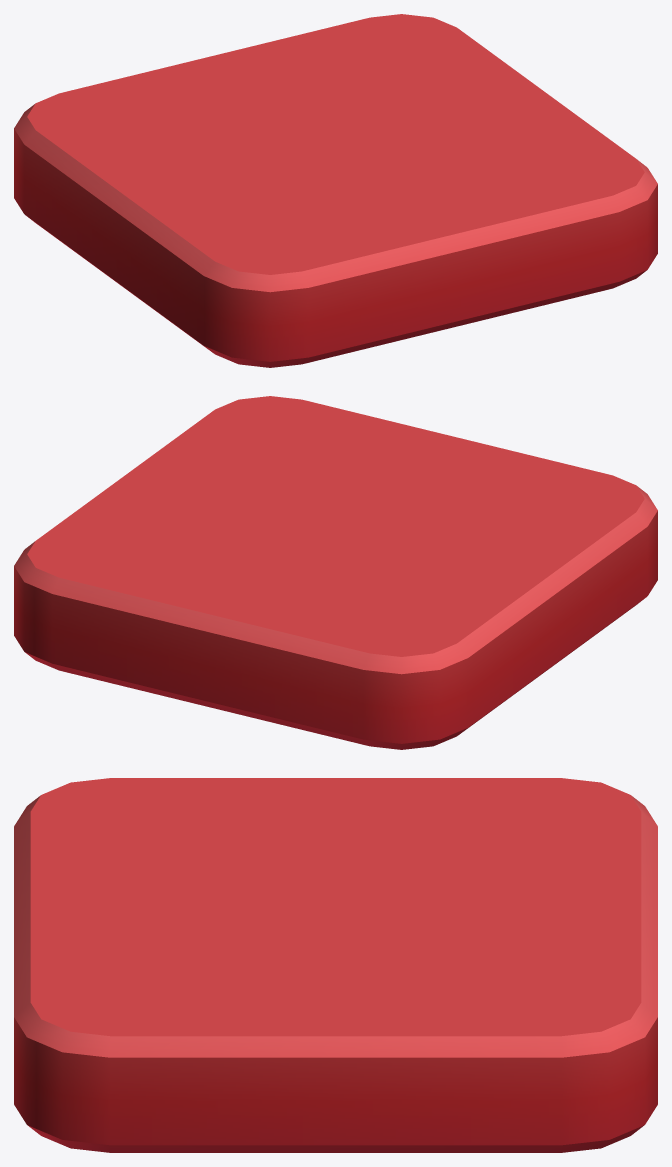
File: tile-red.glb
The picture shows the model from 3 angles, top to bottom: view 1: azimuth 30°, elevation 25°; view 2: azimuth 150°, elevation 25°; view 3: azimuth 270°, elevation 25°; orthographic projection. The views are drawn at different scales.
Visible parts, largest first — view 1: tile_red; view 2: tile_red; view 3: tile_red.
Part boxes in pixels (x1,y1,x2,y2): tile_red: [14, 14, 657, 367]; tile_red: [14, 396, 657, 749]; tile_red: [14, 778, 657, 1152].
Bounding box in the file's own units: 1 × 0.2 × 1.
1 material, 1 textured.
